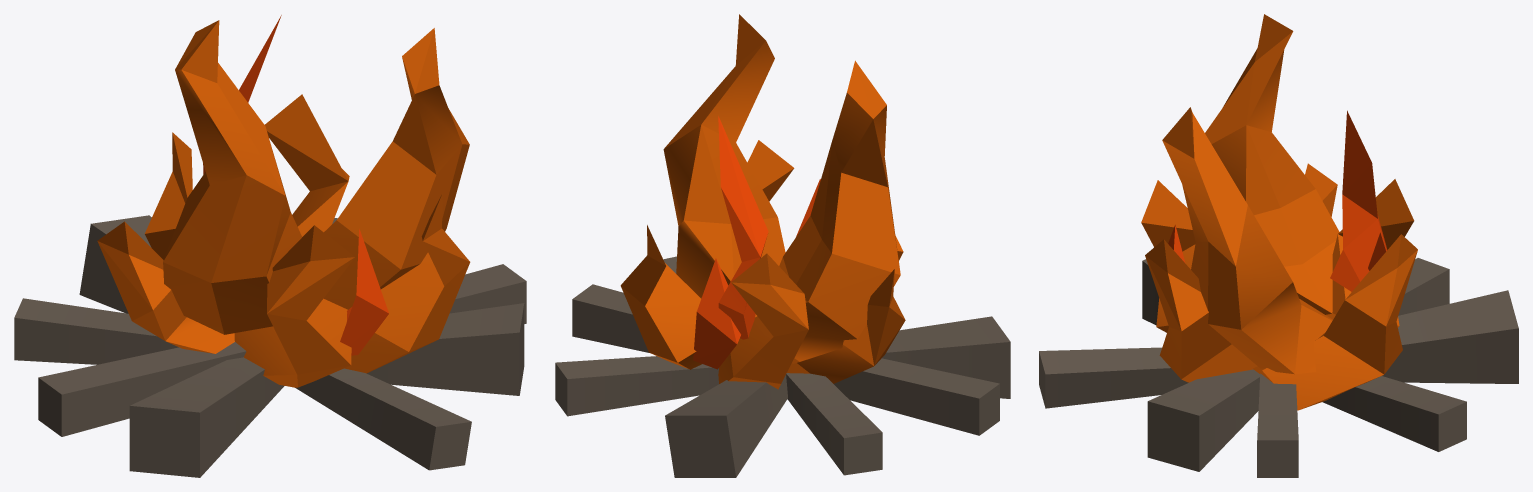
File: Campfire_01.fbx
3 renders of one model, left to right at view 1: azimuth 30°, elevation 25°; view 2: azimuth 150°, elevation 25°; view 3: azimuth 270°, elevation 25°, orthographic. The views are drawn at different scales.
Parts seen in each view (by area): view 1: Campfire_01; view 2: Campfire_01; view 3: Campfire_01.
Part boxes in pixels (x1,y1,x2,y2): Campfire_01: (14,15,526,477); Campfire_01: (555,14,1010,477); Campfire_01: (1039,14,1518,477).
Size of the model in its own units: 21.76 by 17.3 by 21.93.
